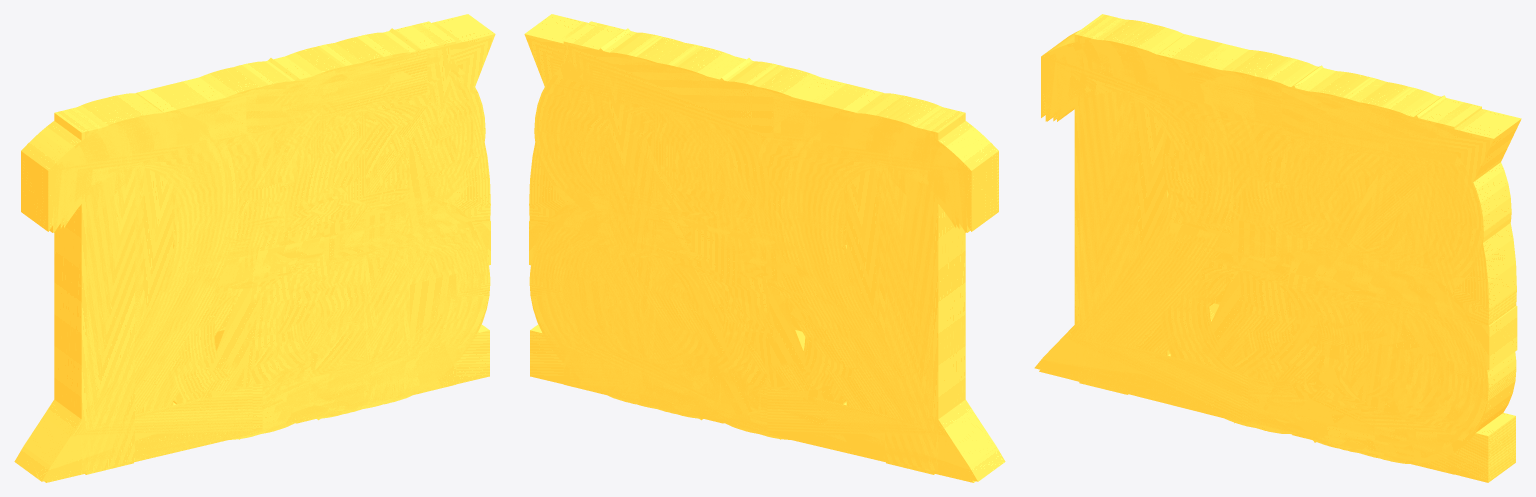
Rendered from GlowingNumbers.gltf.
3 renders of one model, left to right at view 1: azimuth 30°, elevation 25°; view 2: azimuth 150°, elevation 25°; view 3: azimuth 330°, elevation 25°, orthographic.
Parts seen in each view (by area): view 1: 26, 28, 19, 23, 27, 17, 24, 21, 11, 20, 6, 25 (+16 smaller); view 2: 28, 17, 27, 18, 25, 11, 22, 24, 21, 26, 20, 8 (+15 smaller); view 3: 28, 27, 26, 23, 24, 19, 18, 9, 15, 20, 17, 3 (+16 smaller).
Part boxes in pixels (bbox=[...]): 26: bbox=[49, 28, 489, 479]; 28: bbox=[51, 32, 490, 475]; 19: bbox=[88, 46, 448, 471]; 23: bbox=[62, 37, 479, 469]; 27: bbox=[14, 14, 495, 481]; 17: bbox=[54, 23, 455, 471]; 24: bbox=[44, 21, 490, 482]; 21: bbox=[93, 47, 450, 463]; 11: bbox=[126, 113, 410, 412]; 20: bbox=[47, 36, 490, 480]; 6: bbox=[170, 58, 368, 434]; 25: bbox=[54, 21, 482, 478]; 28: bbox=[529, 32, 971, 479]; 17: bbox=[564, 26, 965, 471]; 27: bbox=[524, 14, 1005, 481]; 18: bbox=[570, 43, 932, 472]; 25: bbox=[537, 23, 963, 477]; 11: bbox=[609, 55, 893, 411]; 22: bbox=[530, 60, 969, 480]; 24: bbox=[529, 21, 975, 482]; 21: bbox=[569, 56, 932, 472]; 26: bbox=[530, 28, 968, 478]; 20: bbox=[529, 36, 972, 479]; 8: bbox=[648, 61, 853, 435]; 28: bbox=[1039, 23, 1516, 462]; 27: bbox=[1034, 19, 1521, 448]; 26: bbox=[1041, 24, 1487, 463]; 23: bbox=[1053, 26, 1477, 460]; 24: bbox=[1039, 54, 1517, 474]; 19: bbox=[1081, 38, 1445, 442]; 18: bbox=[1080, 38, 1441, 453]; 9: bbox=[1162, 56, 1363, 423]; 15: bbox=[1087, 18, 1451, 444]; 20: bbox=[1040, 23, 1516, 459]; 17: bbox=[1074, 14, 1477, 419]; 3: bbox=[1183, 50, 1349, 428].
Size of the model in its own units: 0.956 by 0.7 by 0.1.
1 material, 1 textured.
